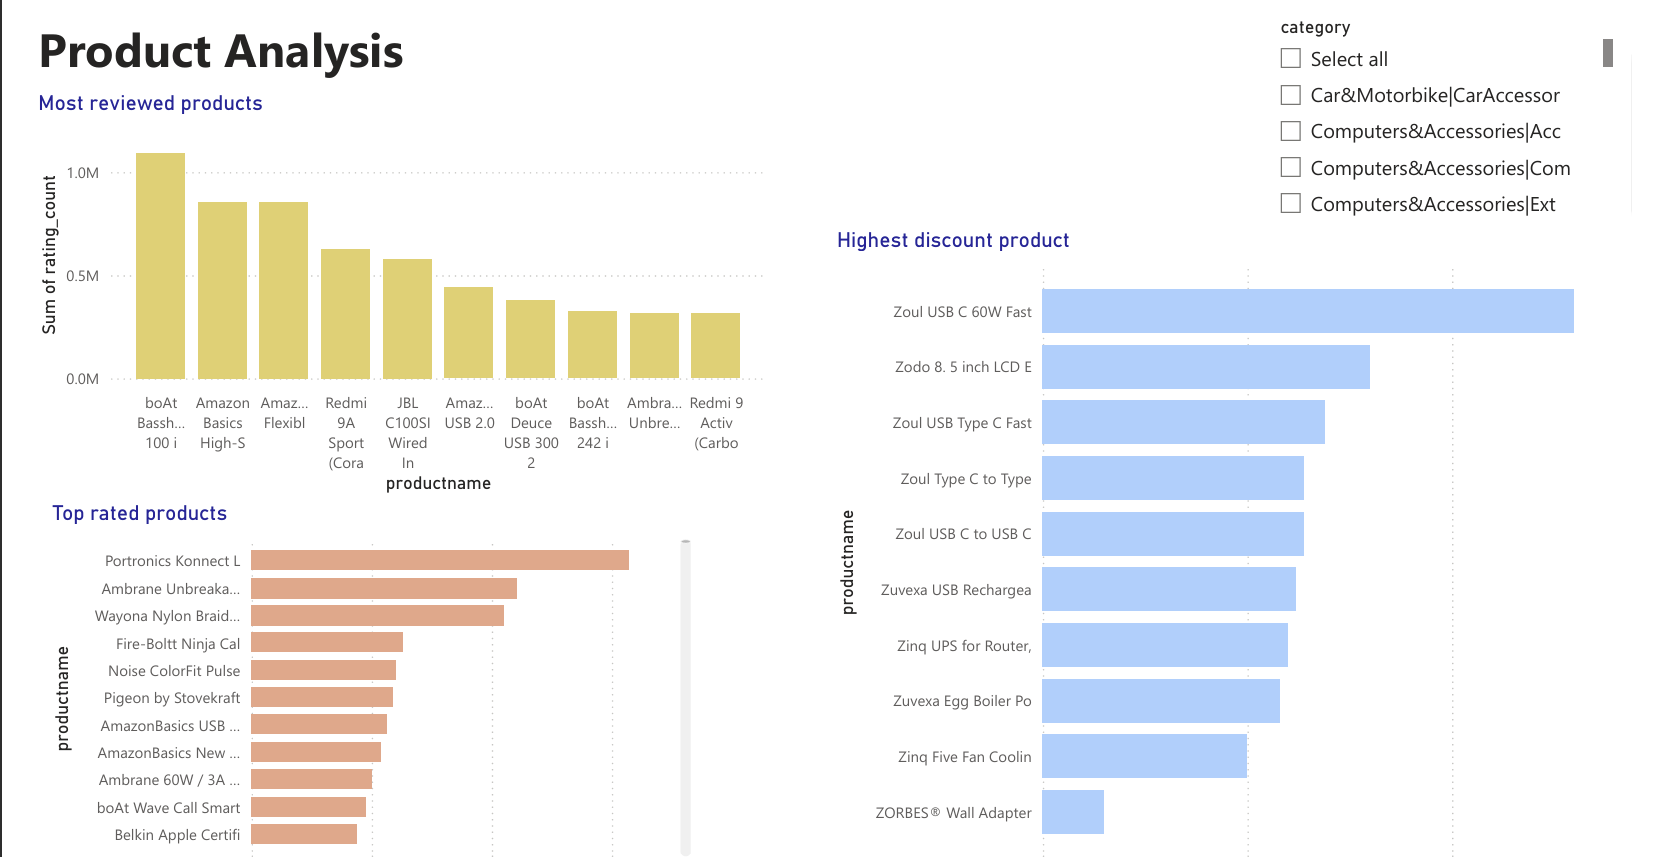

What the dashboard file says about the page in this screenshot:
{"tool":"powerbi","page":{"name":"Page 2","canvas":[1280,720],"ordinal":1},"visuals":[{"type":"clusteredBarChart","title":"Top rated products","fields":{"Category":["amazon.productname"],"Y":["Sum(amazon.rating)"]},"box":[11.5,391.4,520.4,328.3],"z":0},{"type":"clusteredColumnChart","title":"Most reviewed products","fields":{"Y":["Sum(amazon.rating_count)1"],"Category":["amazon.productname"]},"box":[0,63.1,592.1,328.3],"z":1},{"type":"clusteredBarChart","title":"Highest discount product","fields":{"Y":["Sum(amazon.discount_percentage)"],"Category":["amazon.productname"]},"box":[639.4,173.5,640.9,546.2],"z":2},{"type":"slicer","fields":{"Values":["amazon.category"]},"box":[986.4,0,283.9,173.5],"z":3},{"type":"textbox","box":[0,0,492.7,62.7],"z":4}]}

Visuals, with their boxes on the page's 1280x720 design canvas (x1, y1, x2, y2). These are canvas units, not pixel positions in the 1655x857 screenshot, which may show the page scaled, cropped or inside an application window:
"Top rated products" clusteredBarChart: select_region(12, 391, 532, 720)
"Most reviewed products" clusteredColumnChart: select_region(0, 63, 592, 391)
"Highest discount product" clusteredBarChart: select_region(639, 174, 1280, 720)
slicer - amazon.category: select_region(986, 0, 1270, 174)
textbox: select_region(0, 0, 493, 63)
